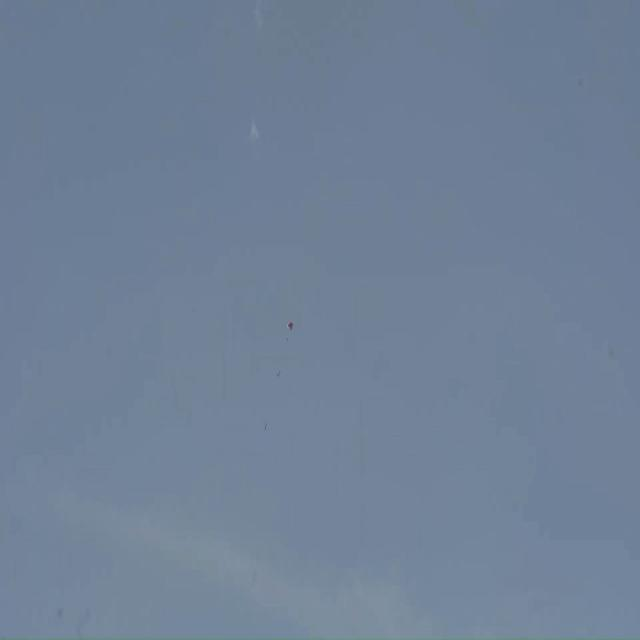Rocket: (265, 422, 267, 431)
